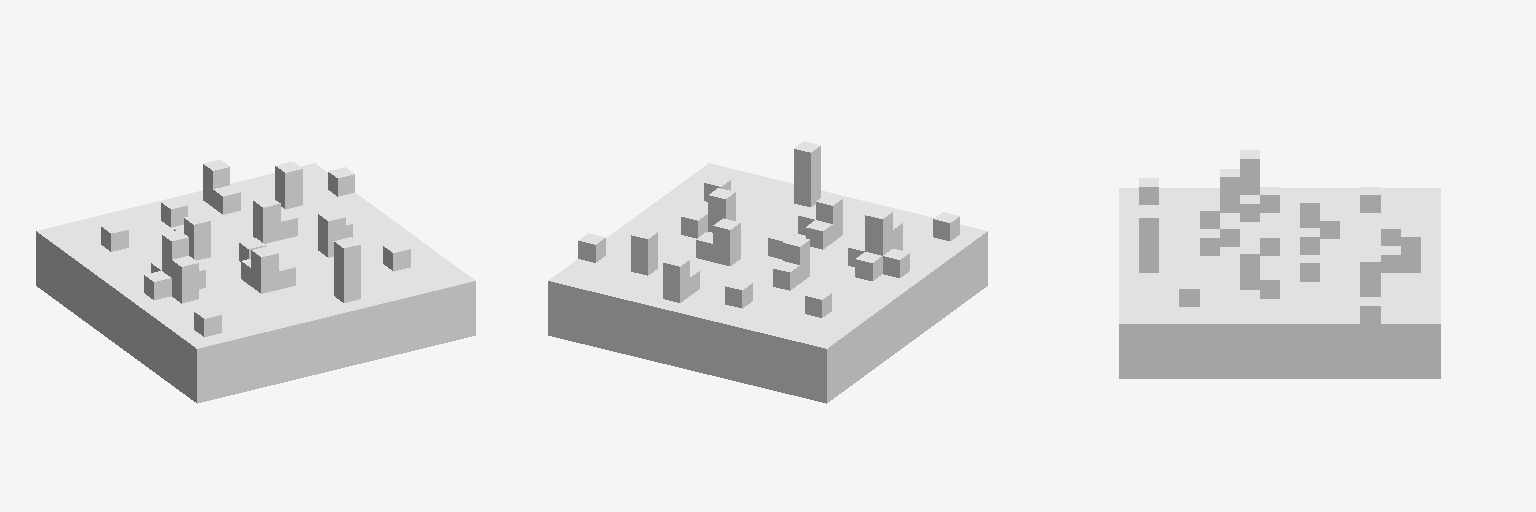
Rendered from cave2.obj.
3 views of the same model, side by side, from view 1: azimuth 30°, elevation 25°; view 2: azimuth 150°, elevation 25°; view 3: azimuth 270°, elevation 25° (orthographic).
Visible parts, largest first — view 1: CaveDecor2; view 2: CaveDecor2; view 3: CaveDecor2.
Boxes of the visible parts, <box> form: CaveDecor2: <box>36,160,475,403</box>; CaveDecor2: <box>548,141,987,403</box>; CaveDecor2: <box>1119,150,1440,378</box>.
Size of the model in its own units: 16 by 6 by 16.